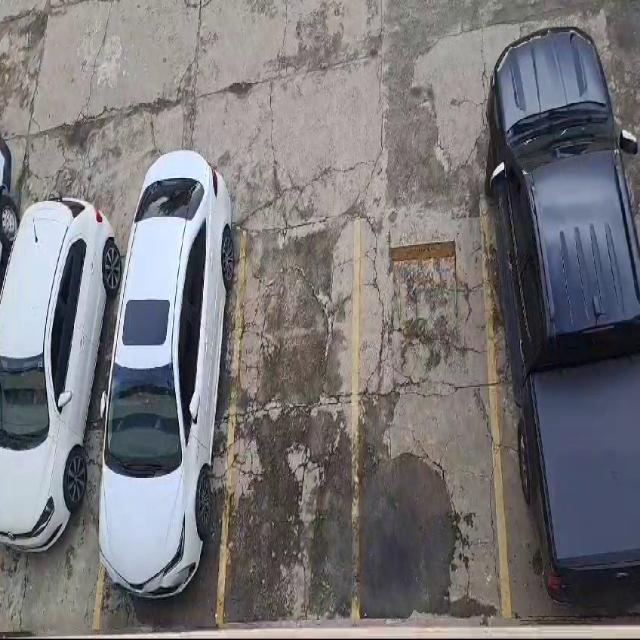empty: (354, 208, 508, 615), (218, 224, 358, 620)
notEmpty: (484, 183, 639, 619), (95, 239, 243, 627), (1, 247, 130, 633)
